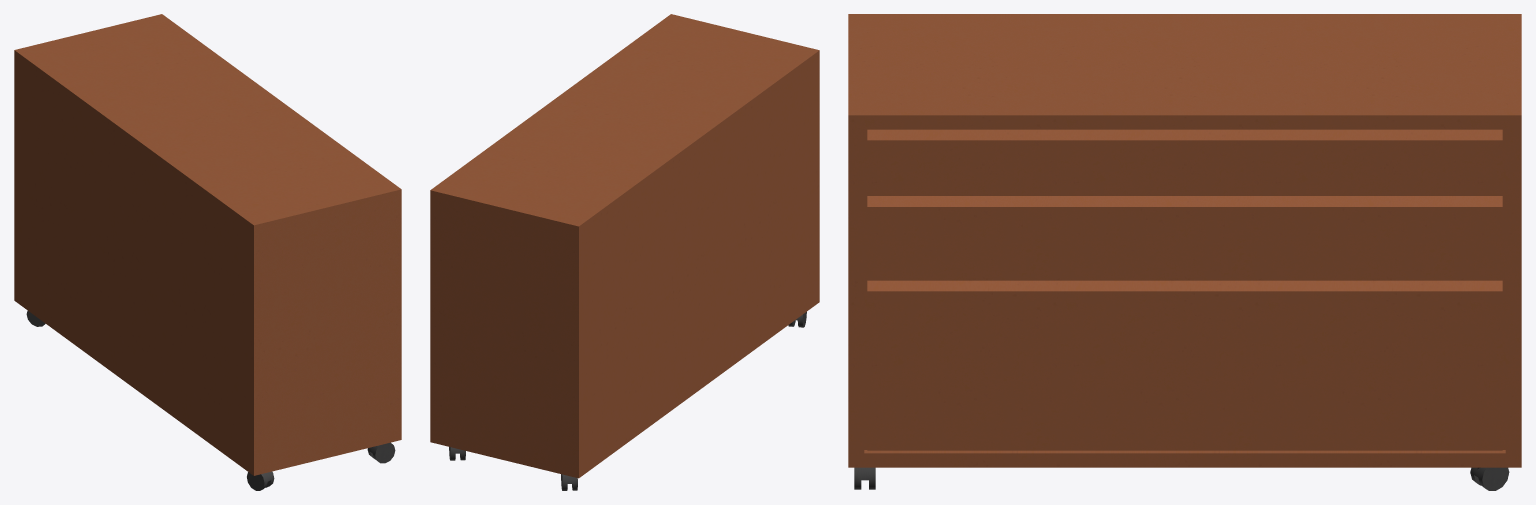
The model's file is SM_file_cabinet_A_A_large.fbx.
The picture shows the model from 3 angles, left to right: view 1: azimuth 30°, elevation 25°; view 2: azimuth 150°, elevation 25°; view 3: azimuth 270°, elevation 25°; orthographic projection. The views are drawn at different scales.
Parts seen in each view (by area): view 1: polySurface721, polySurface722; view 2: polySurface721, polySurface722; view 3: polySurface721, polySurface722.
Boxes of the visible parts, x1,y1,x2,y2 form: polySurface721: (14,14,401,475); polySurface722: (26,311,395,490); polySurface721: (430,14,819,478); polySurface722: (449,312,806,490); polySurface721: (848,14,1521,467); polySurface722: (854,467,1509,490).
Bounding box in the file's own units: 0.6457 × 1.14 × 1.81.
